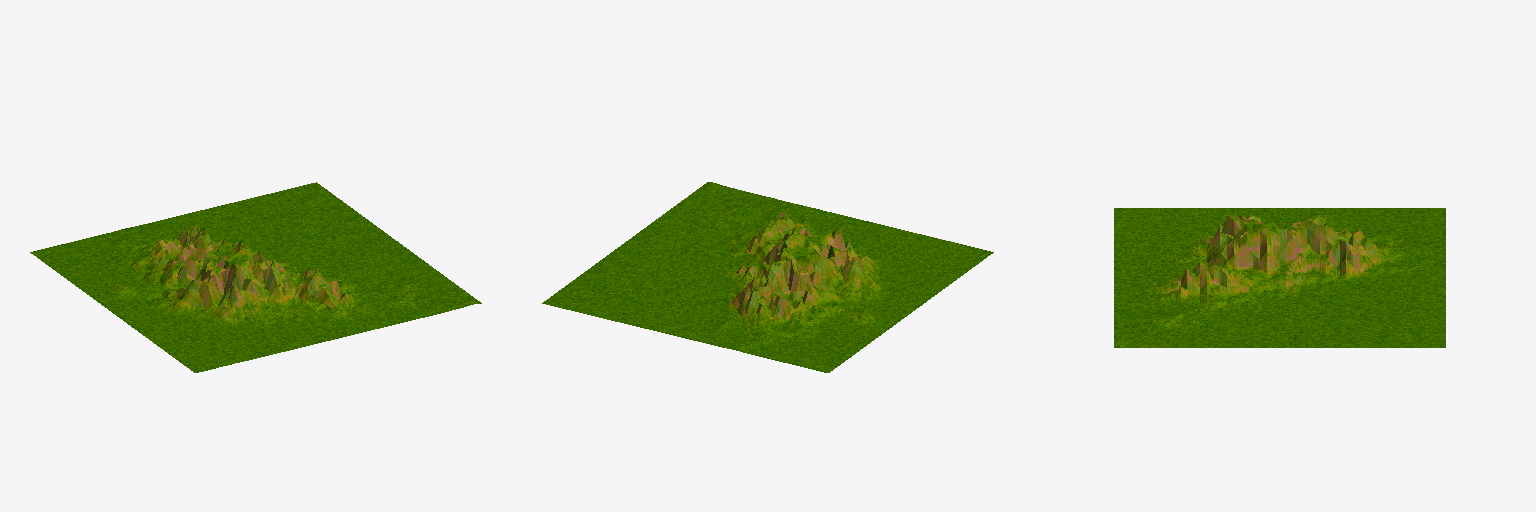
3 renders of one model, left to right at view 1: azimuth 30°, elevation 25°; view 2: azimuth 150°, elevation 25°; view 3: azimuth 270°, elevation 25°, orthographic.
Parts seen in each view (by area): view 1: WS_free_terrain_018; view 2: WS_free_terrain_018; view 3: WS_free_terrain_018.
Part boxes in pixels (x1,y1,x2,y2): WS_free_terrain_018: (30, 182, 481, 372); WS_free_terrain_018: (542, 182, 993, 372); WS_free_terrain_018: (1114, 208, 1445, 347).
Bounding box in the file's own units: 7.94 × 1.16 × 7.94.
1 materials, 1 textured.